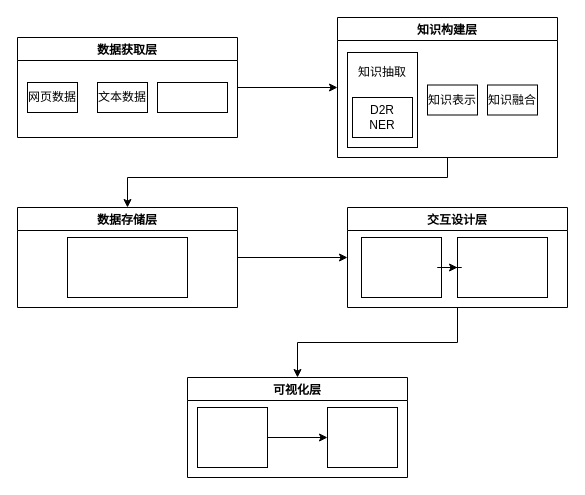
This 585x495 diagram has some shape labels left out. The shapes that lost their labels are listed below. From the top down, each one's centre as x and y in pixels, then its label:
At (192,97): "数据预处理".
At (127,267): "Neo4j图数据库".
At (401,267): "定义交互需求".
At (502,267): "转换为知识查询".
At (232,437): "检索查询".
At (362,437): "输出可视化".
